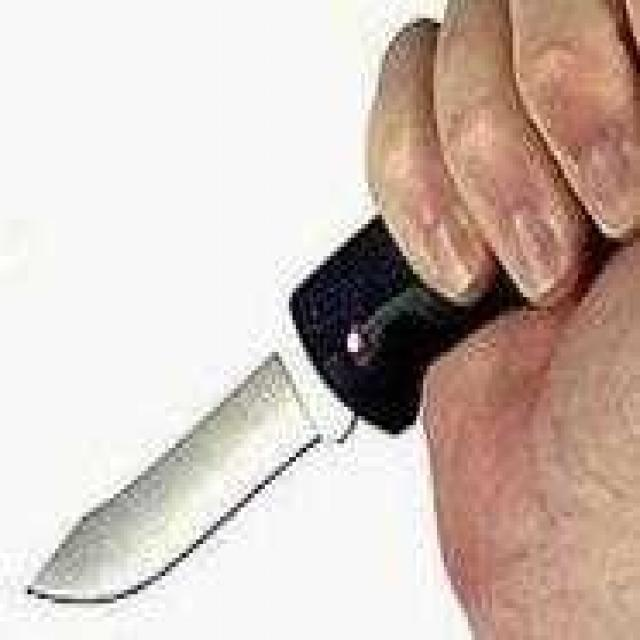weapon: (24, 64, 640, 622)
